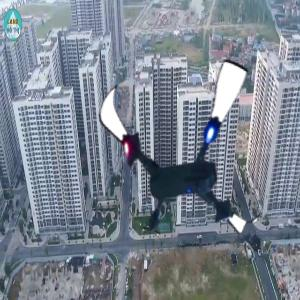drone: (80, 48, 283, 251)
